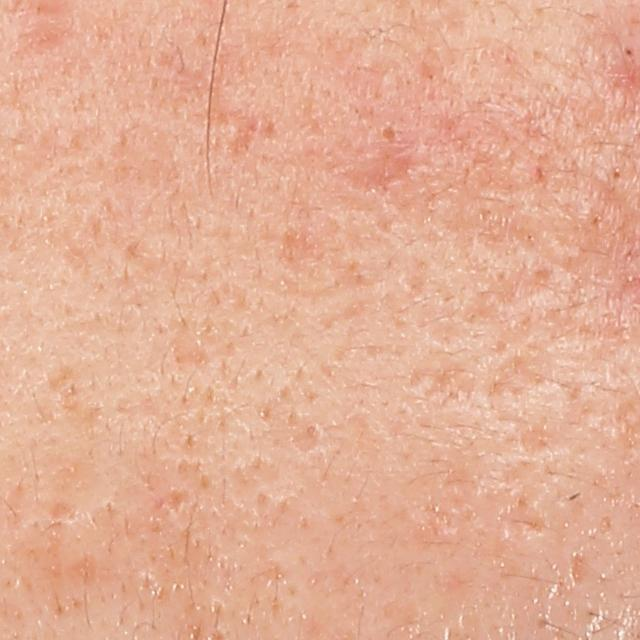atrophic_scar: (463, 260, 566, 311), (487, 344, 556, 396), (405, 360, 480, 402), (496, 500, 549, 542), (289, 419, 324, 447), (569, 552, 590, 587), (44, 497, 77, 519)
comedo: (608, 164, 623, 180)
